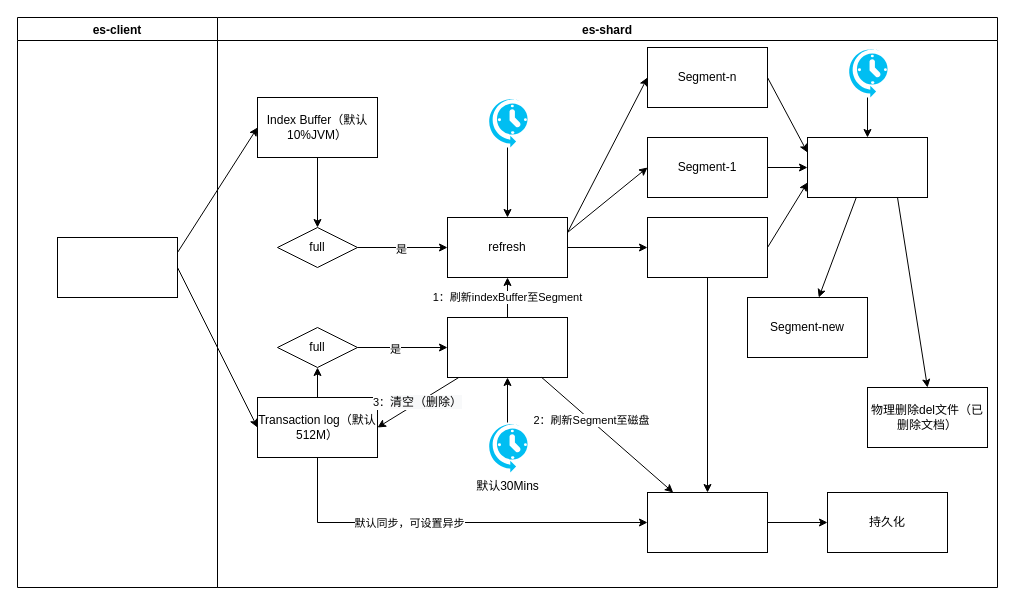
Image size: 1015x605. Some labels were removed from this diagram. Here are the shapes that lost their labels. From the top down, the centre of each, then its label:
the point at 507,122: 默认1S
the point at 867,167: merge
the point at 117,267: write-Document
the point at 707,247: Segment-0
the point at 507,347: flush
the point at 707,522: fsync
